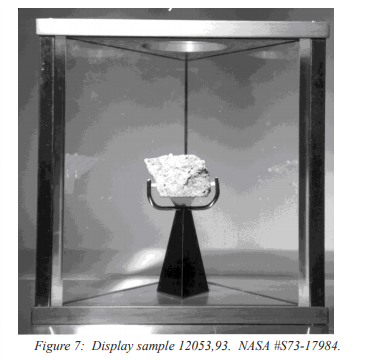Basalt: (119, 124, 231, 216)
